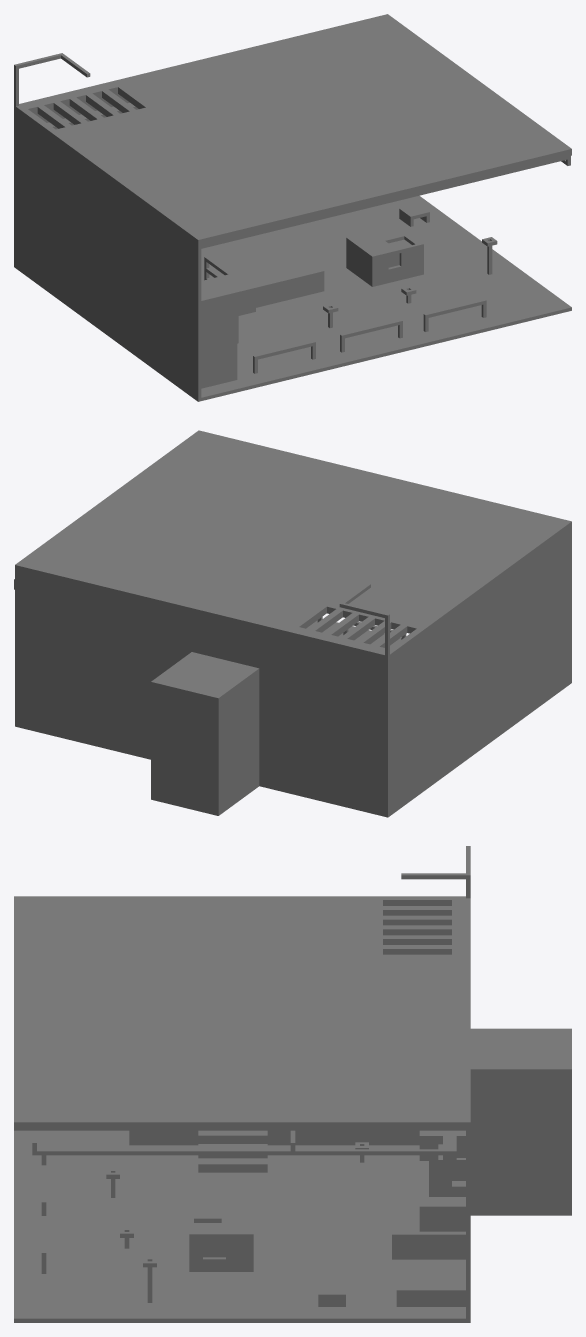
Rendered from room.glb.
3 renders of one model, top to bottom at view 1: azimuth 30°, elevation 25°; view 2: azimuth 150°, elevation 25°; view 3: azimuth 270°, elevation 25°, orthographic. The views are drawn at different scales.
Parts seen in each view (by area): view 1: Node; view 2: Node; view 3: Node.
Part boxes in pixels (x1,y1,x2,y2): Node: (14, 14, 571, 401); Node: (14, 430, 571, 817); Node: (14, 846, 571, 1322).
Bounding box in the file's own units: 11.8 × 6 × 12.1.
1 material, 1 textured.
